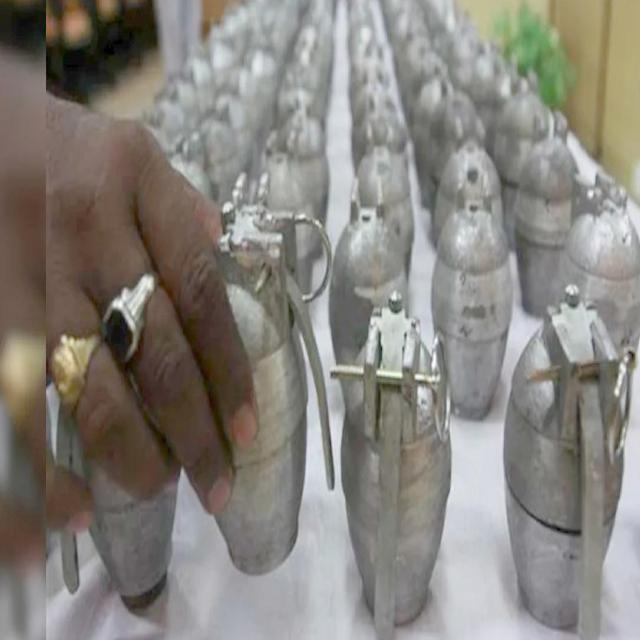grenade: (207, 174, 338, 579), (502, 286, 634, 640), (339, 287, 456, 637), (56, 380, 182, 604), (556, 167, 640, 401), (431, 207, 512, 424), (328, 177, 408, 367), (514, 110, 580, 314), (355, 140, 415, 288), (434, 139, 504, 254), (431, 90, 486, 210)
